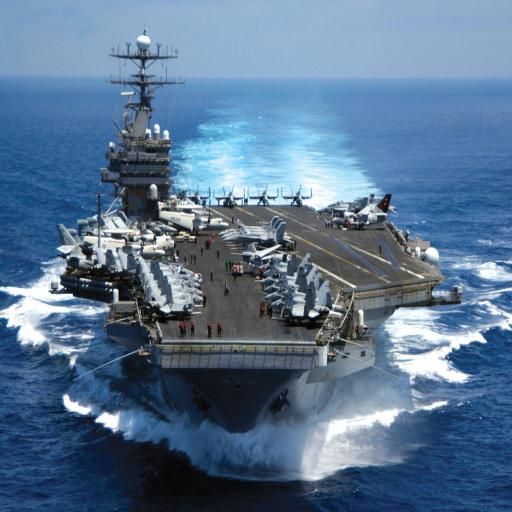Portanaves: (49, 23, 466, 438)
